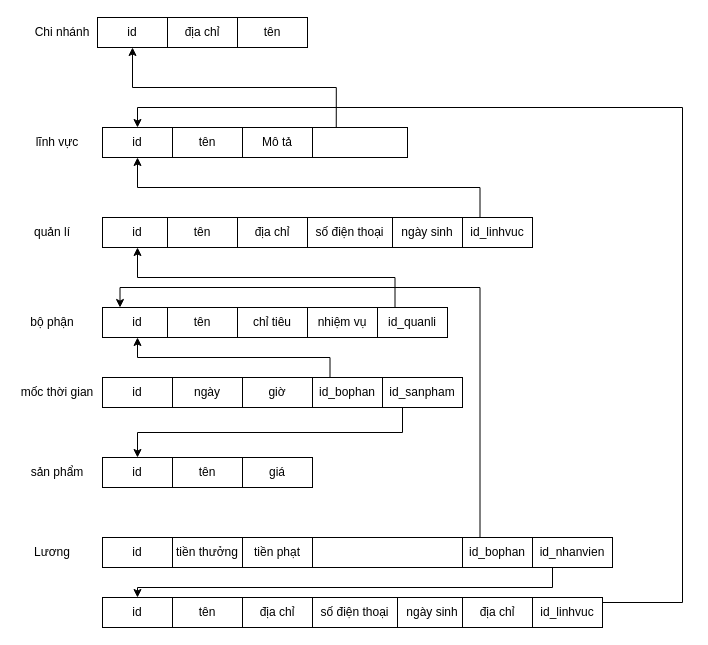
The diagram is 708 pixels wide and 645 high, and some of its shapes have lost their labels. Each missing label, with the box of its shape:
id_chinhanh: (312, 126, 408, 158)
Lương theo tổng giờ: (312, 536, 462, 568)
